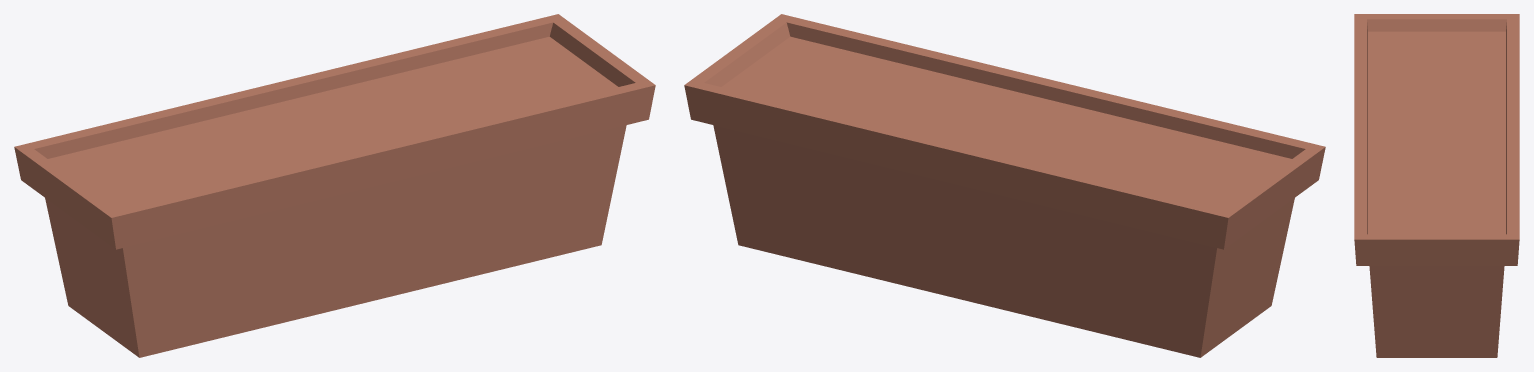
File: FLOWERBED_RECT.fbx
3 renders of one model, left to right at view 1: azimuth 30°, elevation 25°; view 2: azimuth 150°, elevation 25°; view 3: azimuth 270°, elevation 25°, orthographic. The views are drawn at different scales.
Visible parts, largest first — view 1: window_flowerbed; view 2: window_flowerbed; view 3: window_flowerbed.
Boxes of the visible parts, left/top/right/bottom form: window_flowerbed: left=14, top=14, right=655, bottom=357; window_flowerbed: left=684, top=14, right=1325, bottom=357; window_flowerbed: left=1354, top=14, right=1519, bottom=357.
Bounding box in the file's own units: 177 × 49.49 × 54.71.
